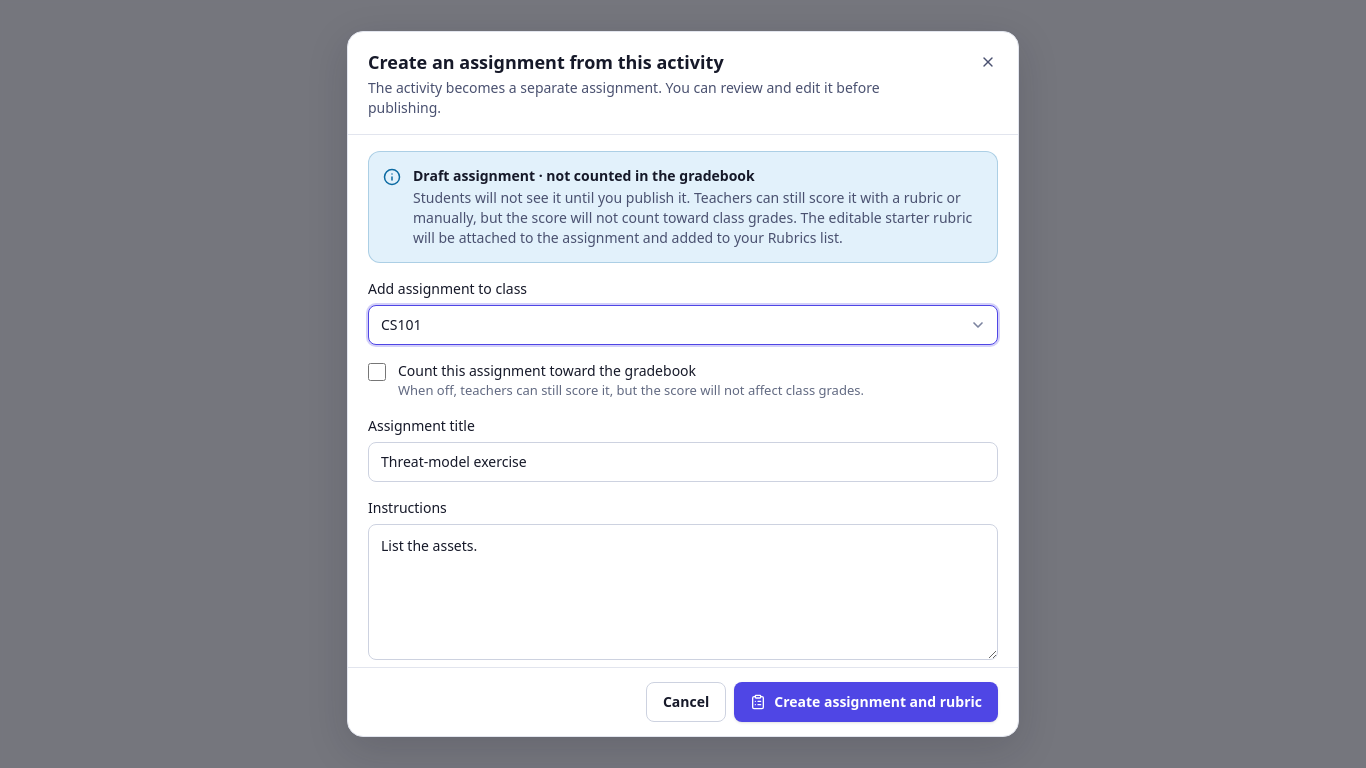
AssignmentDraftDialog › removes the newly created rubric if saving the assignment fails
Click the button "Create assignment and rubric" at {"x": 866, "y": 702}, box [734, 682, 998, 722]
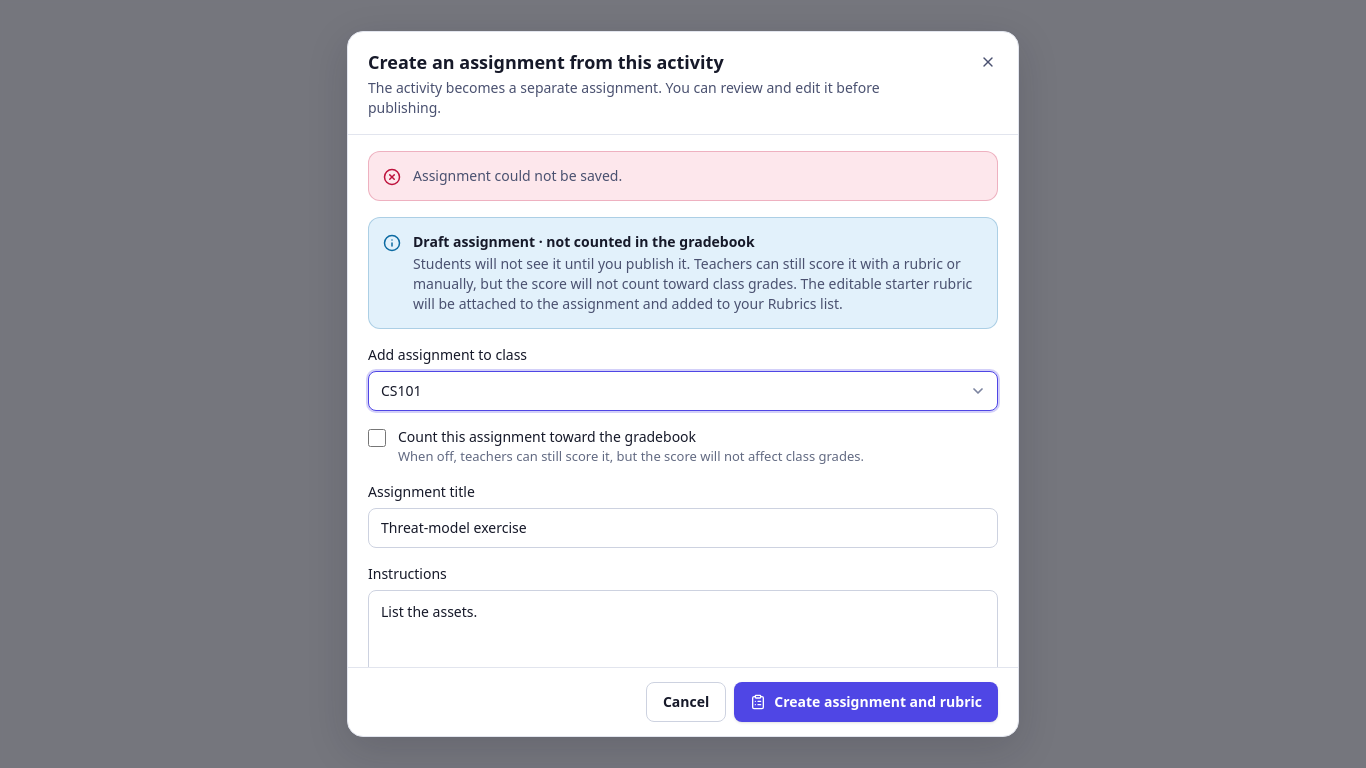
Result: the text "Assignment could not be saved." is shown at [413, 166, 622, 185]
